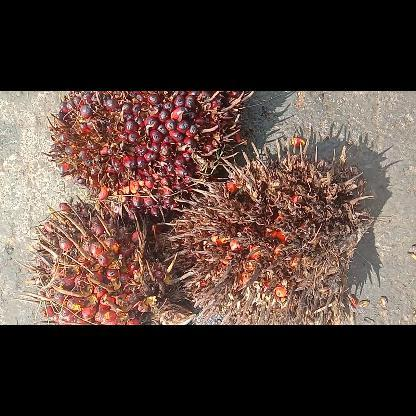TBS masak: (42, 90, 252, 220), (14, 194, 196, 324)
Terlalu masak: (156, 138, 374, 324)
